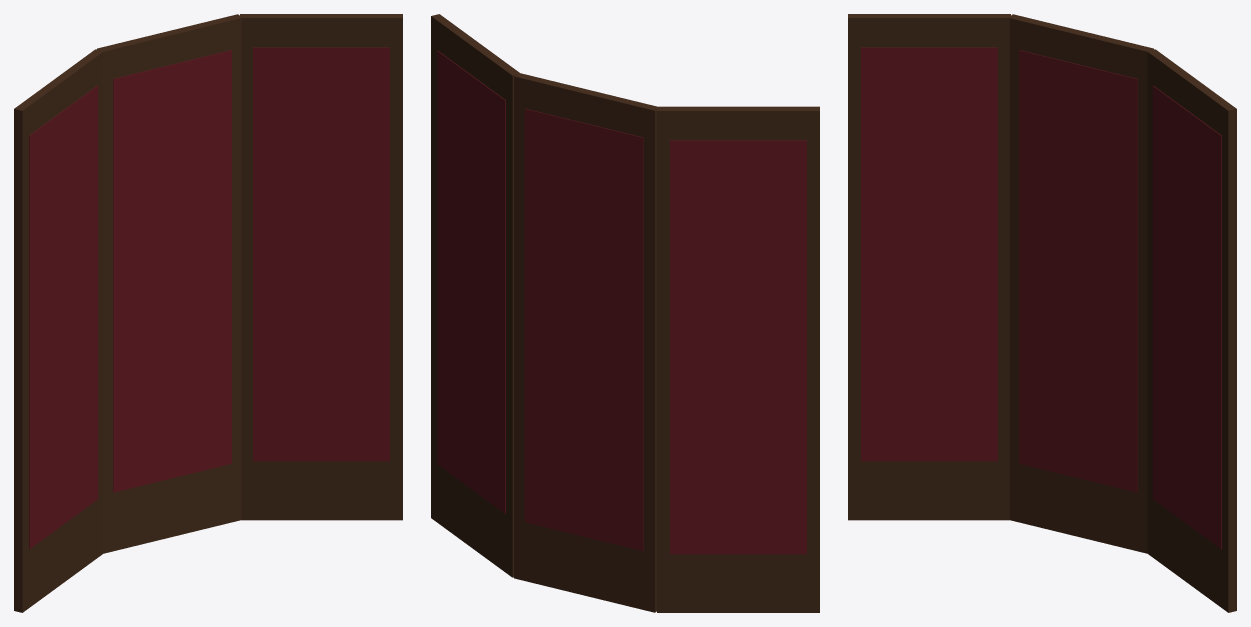
The model's file is folding_screen.glb.
3 views of the same model, side by side, from view 1: azimuth 30°, elevation 25°; view 2: azimuth 150°, elevation 25°; view 3: azimuth 330°, elevation 25° (orthographic).
Visible parts, largest first — view 1: Part5, Part3, Part1, Part4, Part2, Part0; view 2: Part1, Part3, Part5, Part0, Part2, Part4; view 3: Part1, Part3, Part5, Part0, Part2, Part4.
Part boxes in pixels (box(x1,y1,x2,y2)): Part5: box(253, 47, 389, 461); Part3: box(113, 50, 231, 492); Part1: box(29, 85, 98, 549); Part4: box(240, 14, 402, 520); Part2: box(97, 14, 242, 553); Part0: box(14, 49, 103, 612); Part1: box(670, 140, 806, 554); Part3: box(524, 108, 643, 550); Part5: box(437, 50, 505, 513); Part0: box(657, 106, 819, 612); Part2: box(514, 73, 656, 612); Part4: box(431, 14, 520, 577); Part1: box(861, 47, 997, 461); Part3: box(1019, 50, 1137, 492); Part5: box(1152, 85, 1221, 549); Part0: box(848, 14, 1010, 520); Part2: box(1009, 14, 1153, 553); Part4: box(1147, 49, 1236, 612).
Bounding box in the file's own units: 1.38 × 1.7 × 0.2805.
